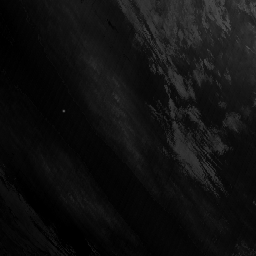Target: (60, 108, 65, 113)
